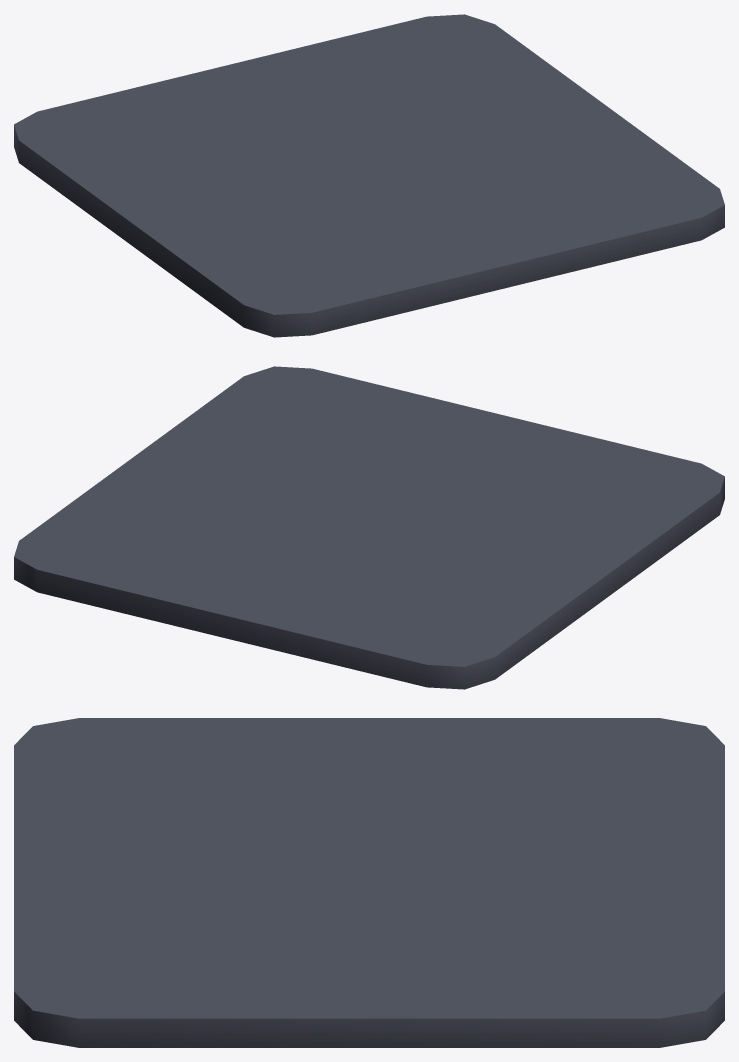
The model's file is roof-flat-patch.glb.
The picture shows the model from 3 angles, top to bottom: view 1: azimuth 30°, elevation 25°; view 2: azimuth 150°, elevation 25°; view 3: azimuth 270°, elevation 25°; orthographic projection. The views are drawn at different scales.
Visible parts, largest first — view 1: roof-flat-patch; view 2: roof-flat-patch; view 3: roof-flat-patch.
Boxes of the visible parts, x1,y1,x2,y2 form: roof-flat-patch: (14,14,724,337); roof-flat-patch: (14,366,724,689); roof-flat-patch: (14,718,724,1047).
Size of the model in its own units: 1.1 by 0.05 by 1.1.
Materials: 1 (1 with a texture image).
